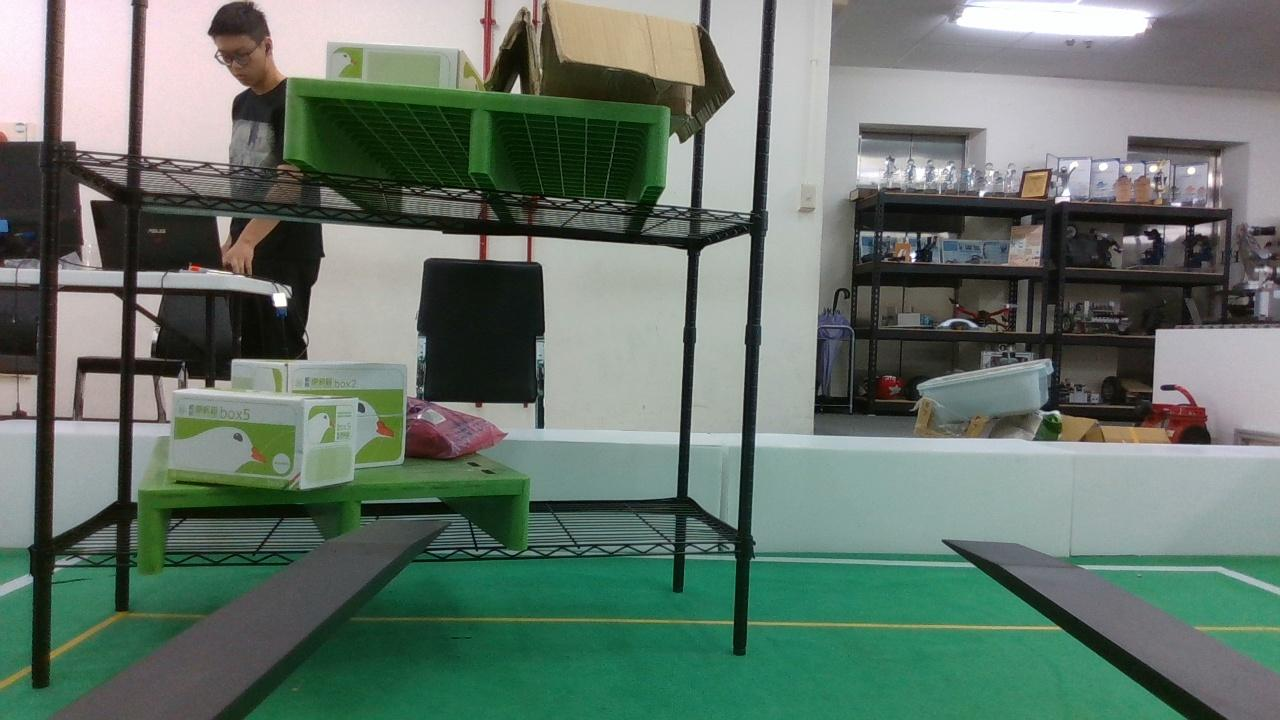Pallet: (278, 81, 676, 195), (137, 478, 535, 579)
